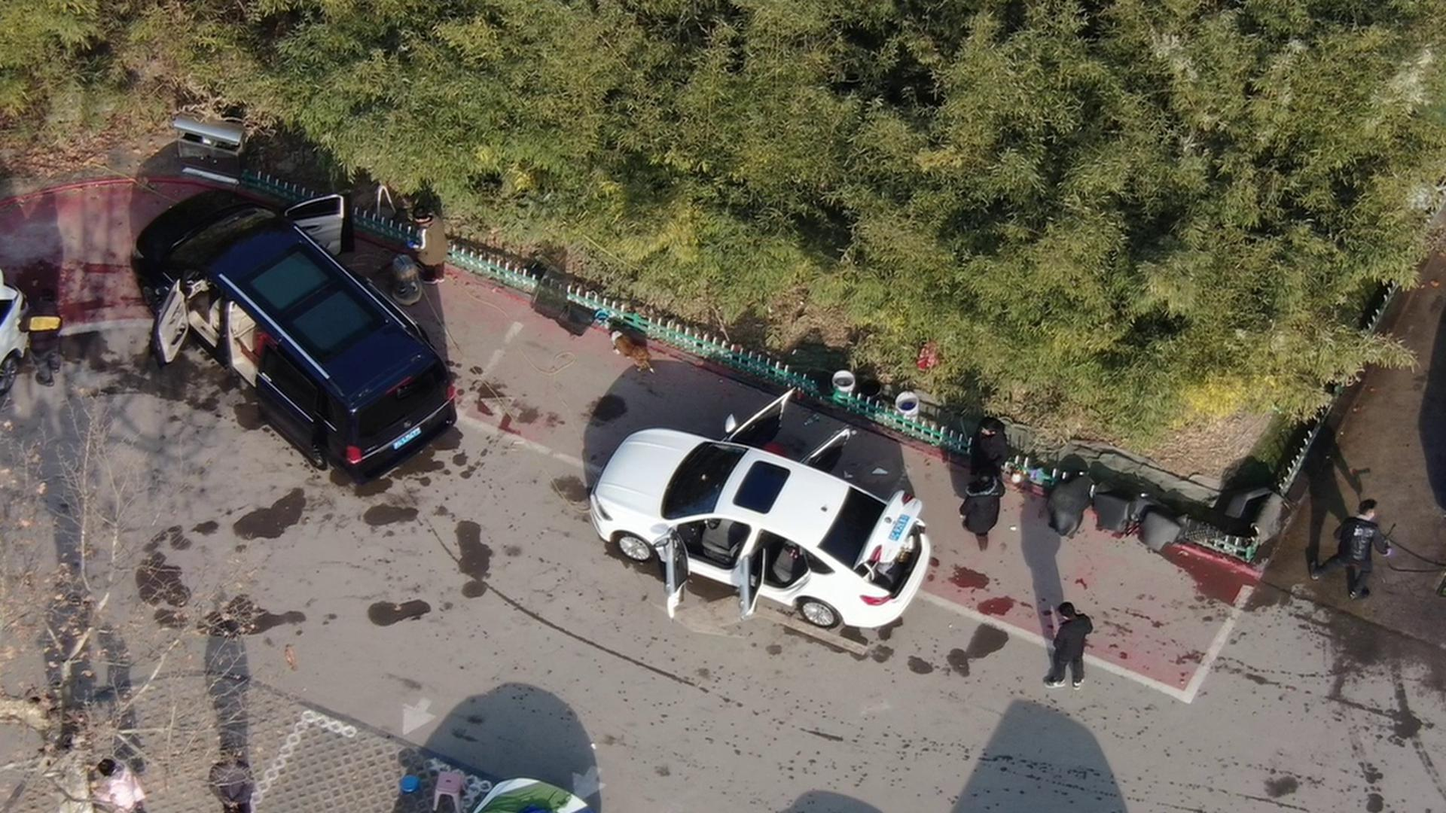human: (1298, 497, 1397, 592), (1036, 591, 1097, 686), (29, 288, 74, 393), (202, 737, 264, 813), (952, 471, 1005, 551), (409, 209, 453, 290), (967, 416, 1013, 470)
